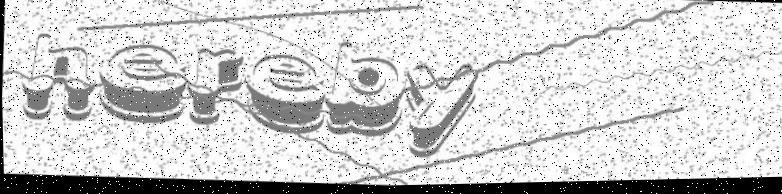b: (322, 40, 409, 140), (400, 62, 483, 163)
e: (94, 38, 191, 127), (243, 48, 329, 138)
h: (18, 28, 101, 123)
r: (186, 44, 246, 129)
